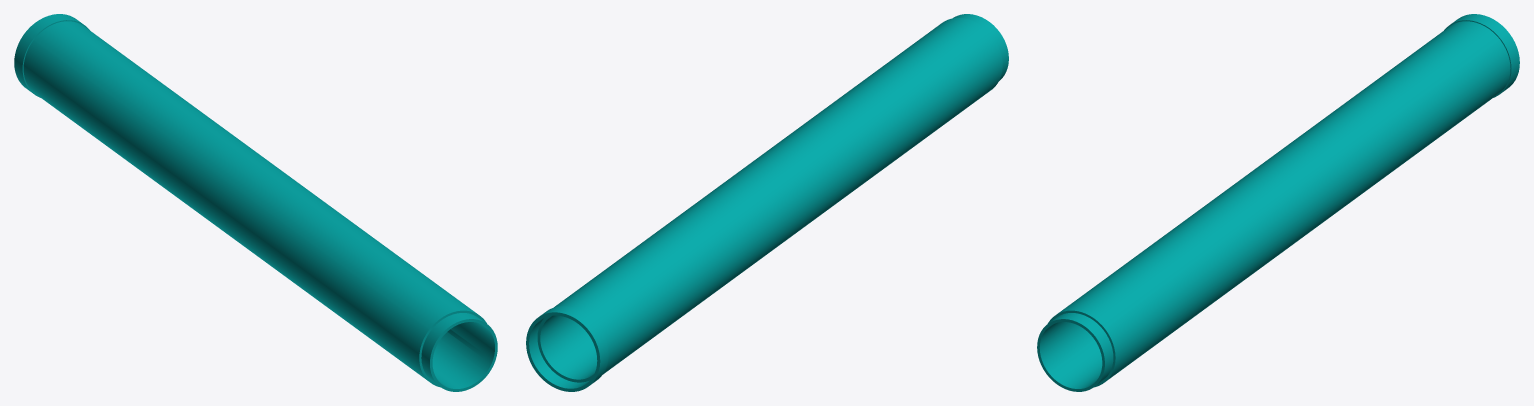
File: pipe_b.fbx
The picture shows the model from 3 angles, left to right: view 1: azimuth 30°, elevation 25°; view 2: azimuth 150°, elevation 25°; view 3: azimuth 330°, elevation 25°; orthographic projection.
Parts seen in each view (by area): view 1: pipe_b; view 2: pipe_b; view 3: pipe_b.
Part boxes in pixels (x1,y1,x2,y2): pipe_b: [14, 14, 497, 391]; pipe_b: [526, 14, 1008, 391]; pipe_b: [1037, 14, 1519, 391].
Bounding box in the file's own units: 110 × 110 × 1056.
